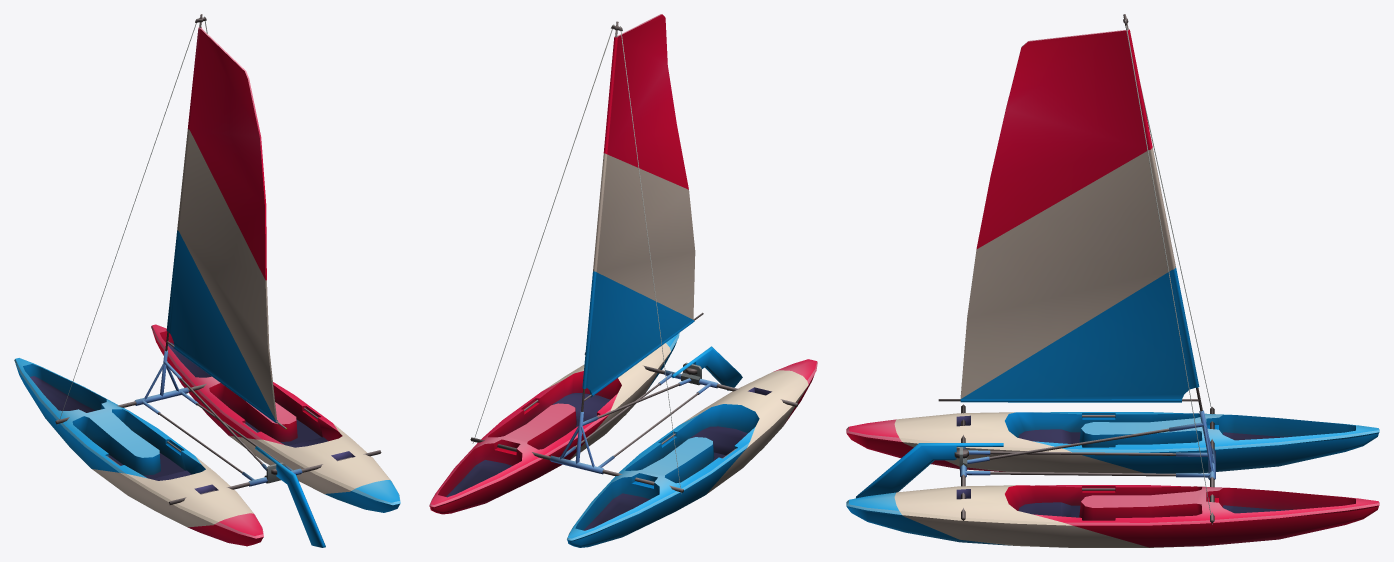
The model's file is Catamaran_1A.fbx.
3 renders of one model, left to right at view 1: azimuth 30°, elevation 25°; view 2: azimuth 150°, elevation 25°; view 3: azimuth 270°, elevation 25°, orthographic. The views are drawn at different scales.
Visible parts, largest first — view 1: Catamaran_1A, Catamaran_1A_Sail, Catamaran_1A_Rudder; view 2: Catamaran_1A, Catamaran_1A_Sail, Catamaran_1A_Rudder; view 3: Catamaran_1A_Sail, Catamaran_1A, Catamaran_1A_Rudder.
Boxes of the visible parts, x1=… form: Catamaran_1A: x1=14, y1=16, x2=400, y2=546; Catamaran_1A_Sail: x1=165, y1=14, x2=287, y2=429; Catamaran_1A_Rudder: x1=255, y1=446, x2=325, y2=547; Catamaran_1A: x1=429, y1=24, x2=817, y2=547; Catamaran_1A_Sail: x1=581, y1=14, x2=703, y2=411; Catamaran_1A_Rudder: x1=671, y1=346, x2=742, y2=390; Catamaran_1A_Sail: x1=938, y1=14, x2=1202, y2=411; Catamaran_1A: x1=846, y1=18, x2=1379, y2=547; Catamaran_1A_Rudder: x1=856, y1=443, x2=1003, y2=498.
Size of the model in its own units: 263 by 537 by 528.
